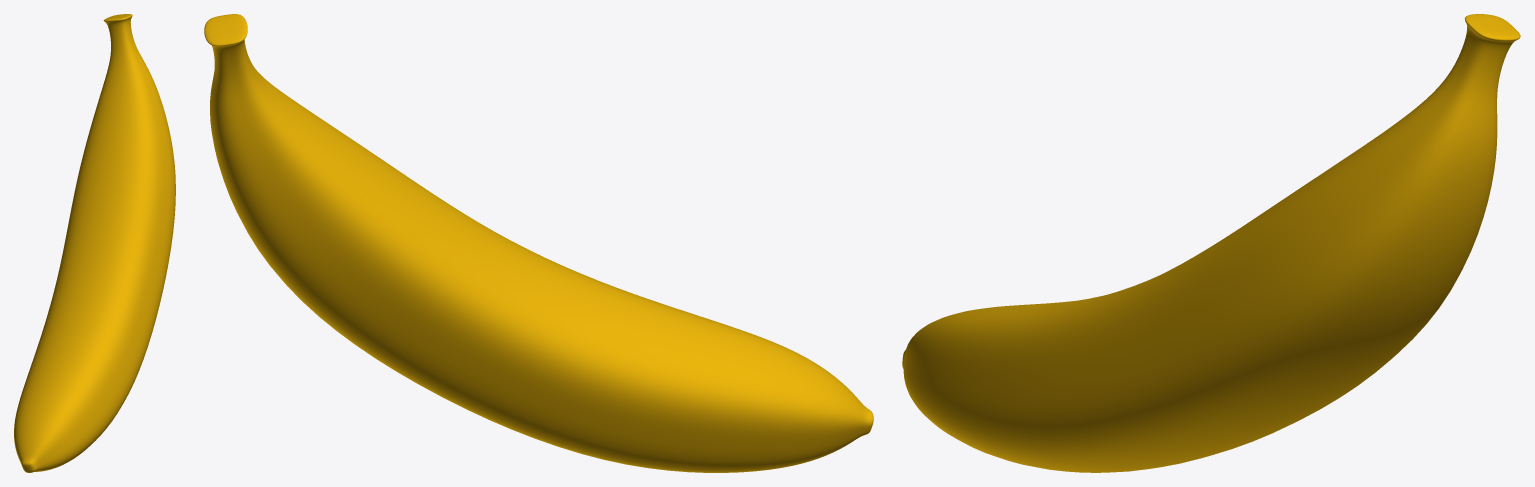
Rendered from chuoi.glb.
3 renders of one model, left to right at view 1: azimuth 30°, elevation 25°; view 2: azimuth 150°, elevation 25°; view 3: azimuth 270°, elevation 25°, orthographic. The views are drawn at different scales.
Visible parts, largest first — view 1: Cube; view 2: Cube; view 3: Cube.
Part boxes in pixels (x1,y1,x2,y2): Cube: (14, 14, 175, 472); Cube: (204, 14, 873, 472); Cube: (902, 14, 1520, 472).
Size of the model in its own units: 2.38 by 2.65 by 2.45.
